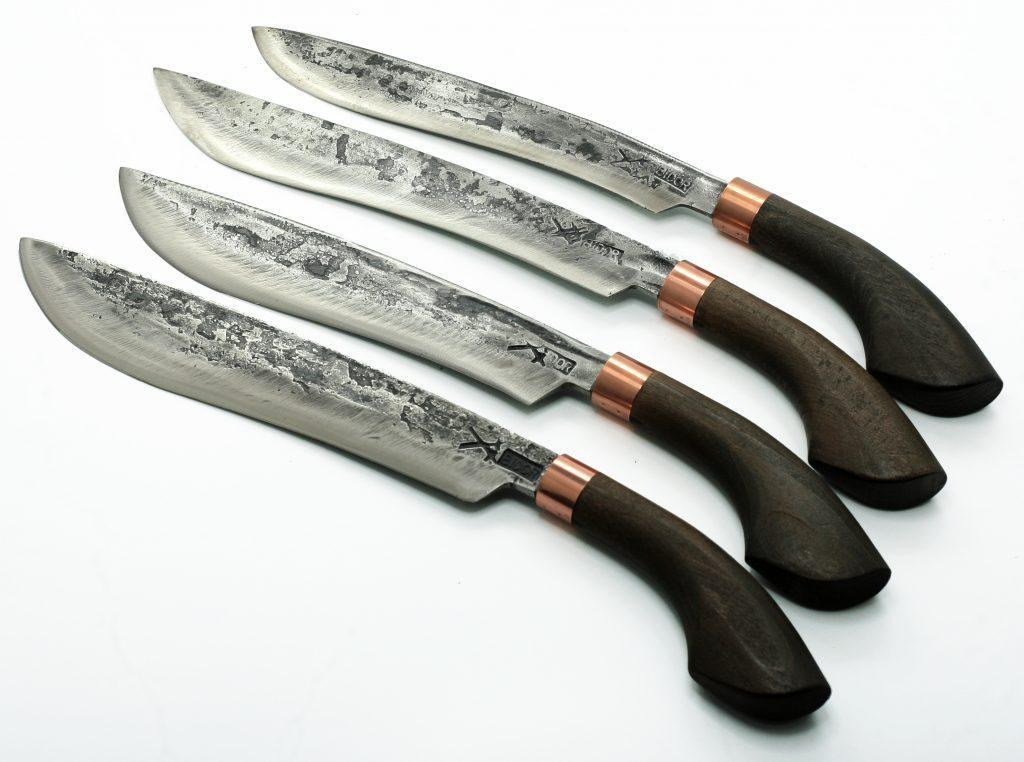faca: (21, 239, 829, 719), (154, 69, 943, 507), (119, 167, 890, 610), (253, 26, 1001, 415)
